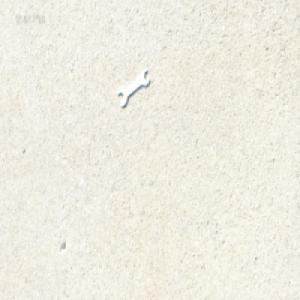Wrench: (118, 67, 151, 106)
